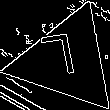L_S: (46, 33, 87, 88)
